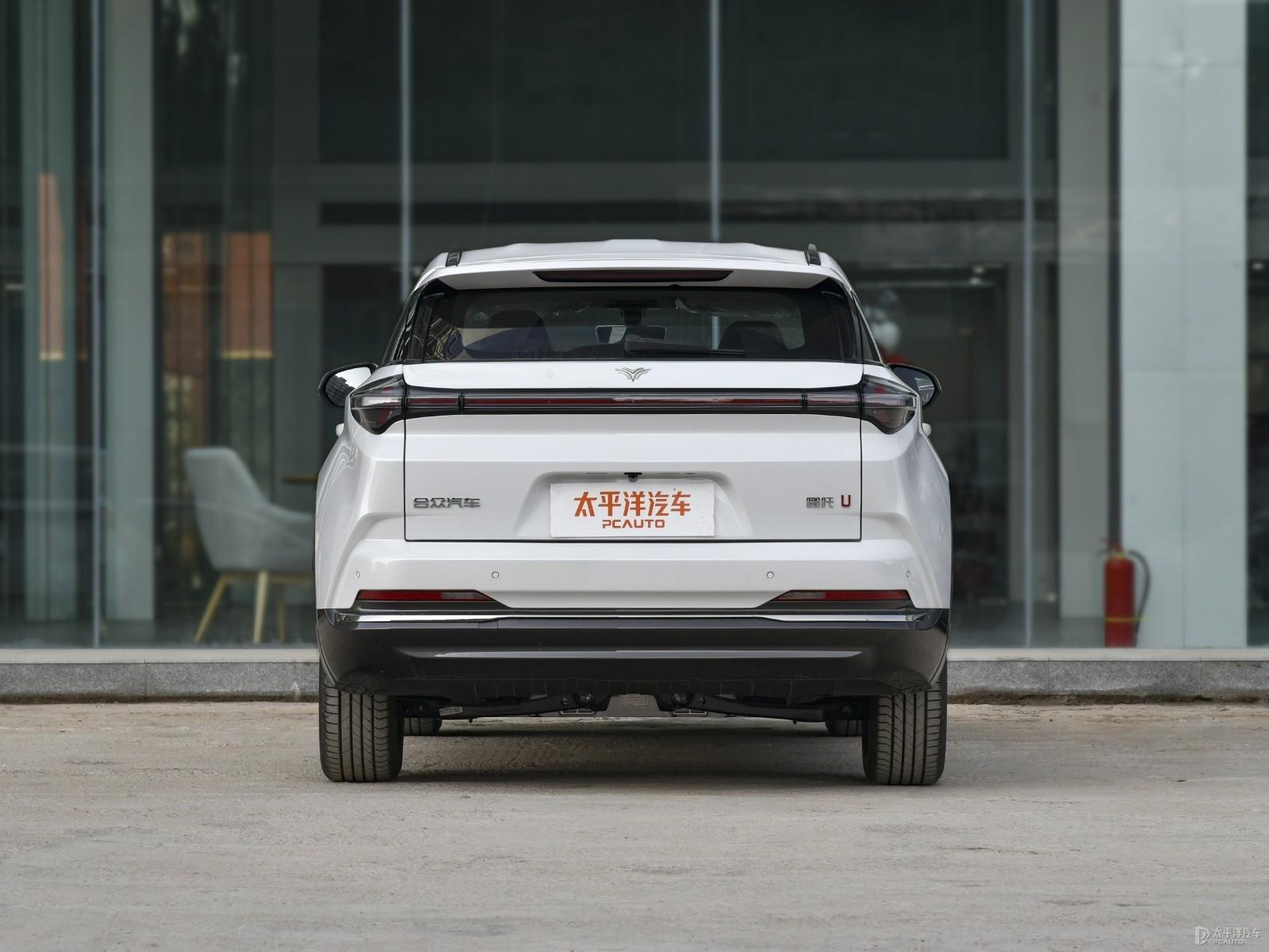NETA: (615, 364, 652, 386)
